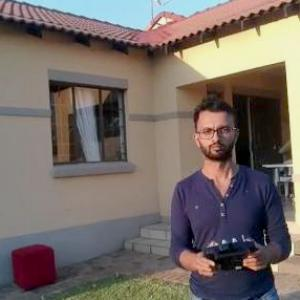follow: (167, 90, 297, 299)
